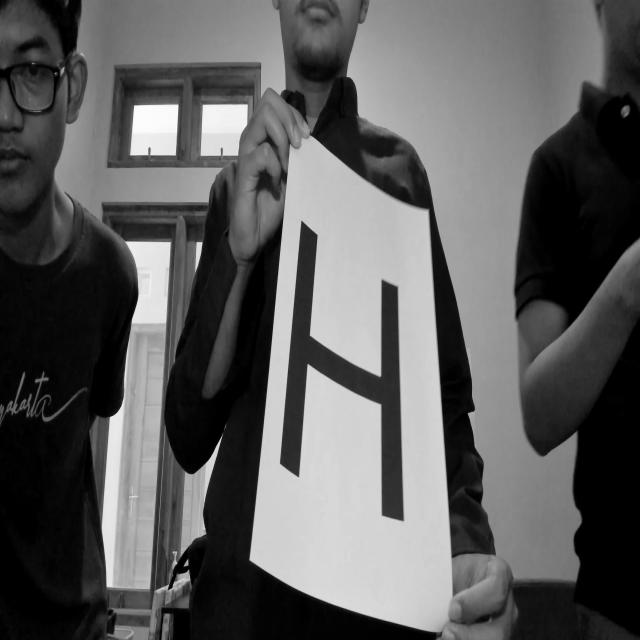h: (275, 204, 418, 535)
